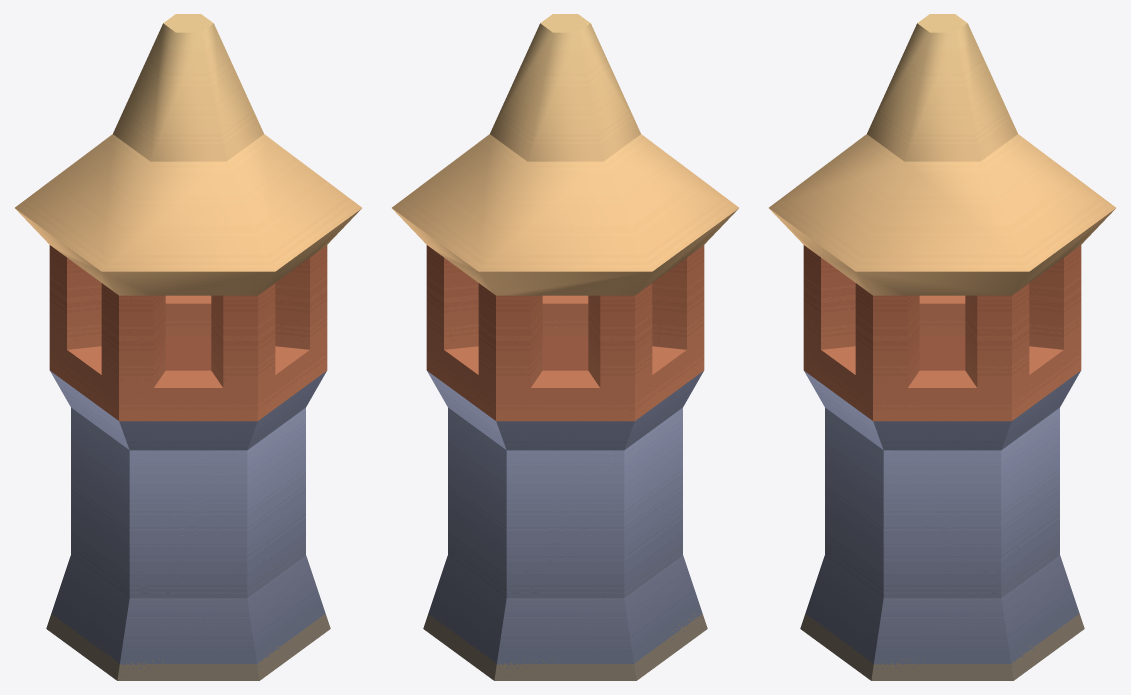
Rendered from hx_unit-tower.glb.
3 views of the same model, side by side, from view 1: azimuth 30°, elevation 25°; view 2: azimuth 150°, elevation 25°; view 3: azimuth 270°, elevation 25° (orthographic).
Bounding box in the file's own units: 0.3699 × 0.82 × 0.4272.
1 material, 1 textured.
